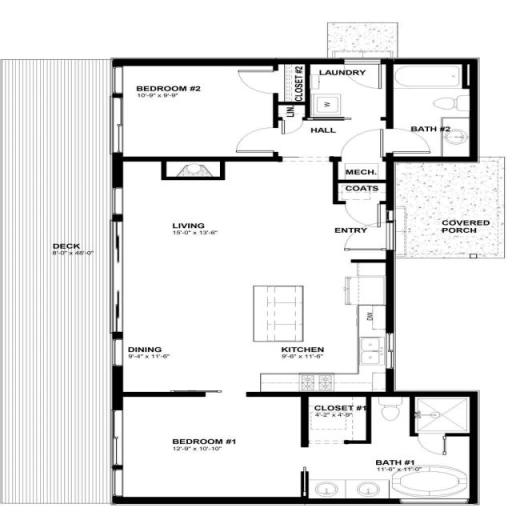bathroom: (380, 407, 466, 499), (403, 66, 479, 165)
bedroom: (124, 70, 323, 161), (124, 410, 298, 493)
closet: (306, 401, 374, 438)
hall: (141, 166, 380, 276)
kitchen: (132, 284, 397, 399)
laundary: (313, 67, 386, 131)
porch: (408, 159, 512, 261)
